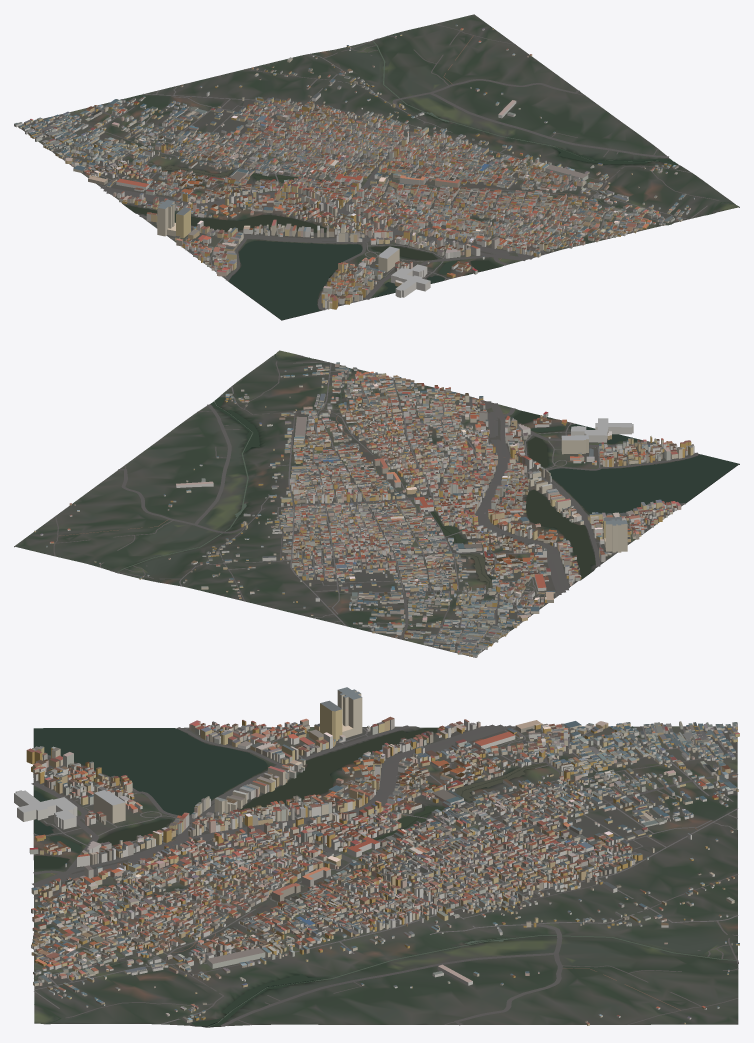
3 renders of one model, top to bottom at view 1: azimuth 30°, elevation 25°; view 2: azimuth 150°, elevation 25°; view 3: azimuth 270°, elevation 25°, orthographic. The views are drawn at different scales.
Parts seen in each view (by area): view 1: buildings, ground, water, roads; view 2: buildings, ground, water, roads; view 3: buildings, ground, water, roads.
Boxes of the visible parts, <box> form: buildings: <box>14,24,694,309</box>; ground: <box>21,14,739,320</box>; water: <box>124,41,735,319</box>; roads: <box>21,24,718,310</box>; buildings: <box>34,362,694,657</box>; ground: <box>14,350,739,655</box>; water: <box>117,354,738,628</box>; roads: <box>53,361,697,655</box>; buildings: <box>14,687,739,1025</box>; ground: <box>33,726,738,1027</box>; water: <box>34,726,736,1027</box>; roads: <box>31,724,738,1026</box>.
Size of the model in its own units: 1421 by 89.52 by 1445.
